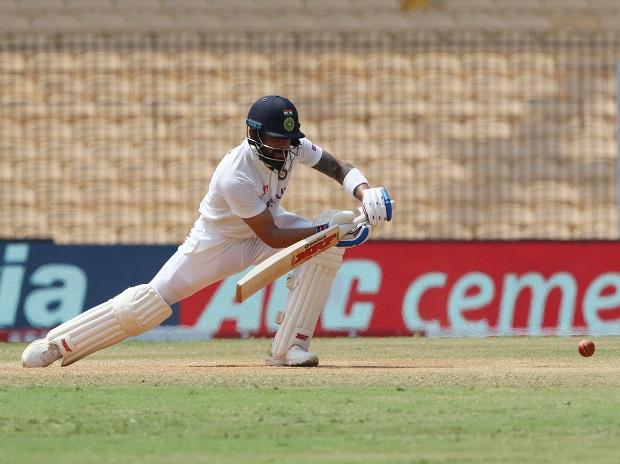Defence: (8, 13, 552, 436)
